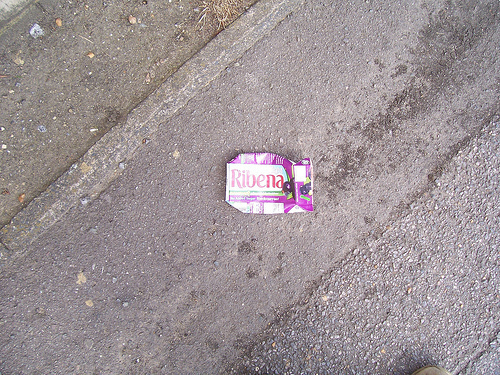litter: (224, 152, 315, 216)
